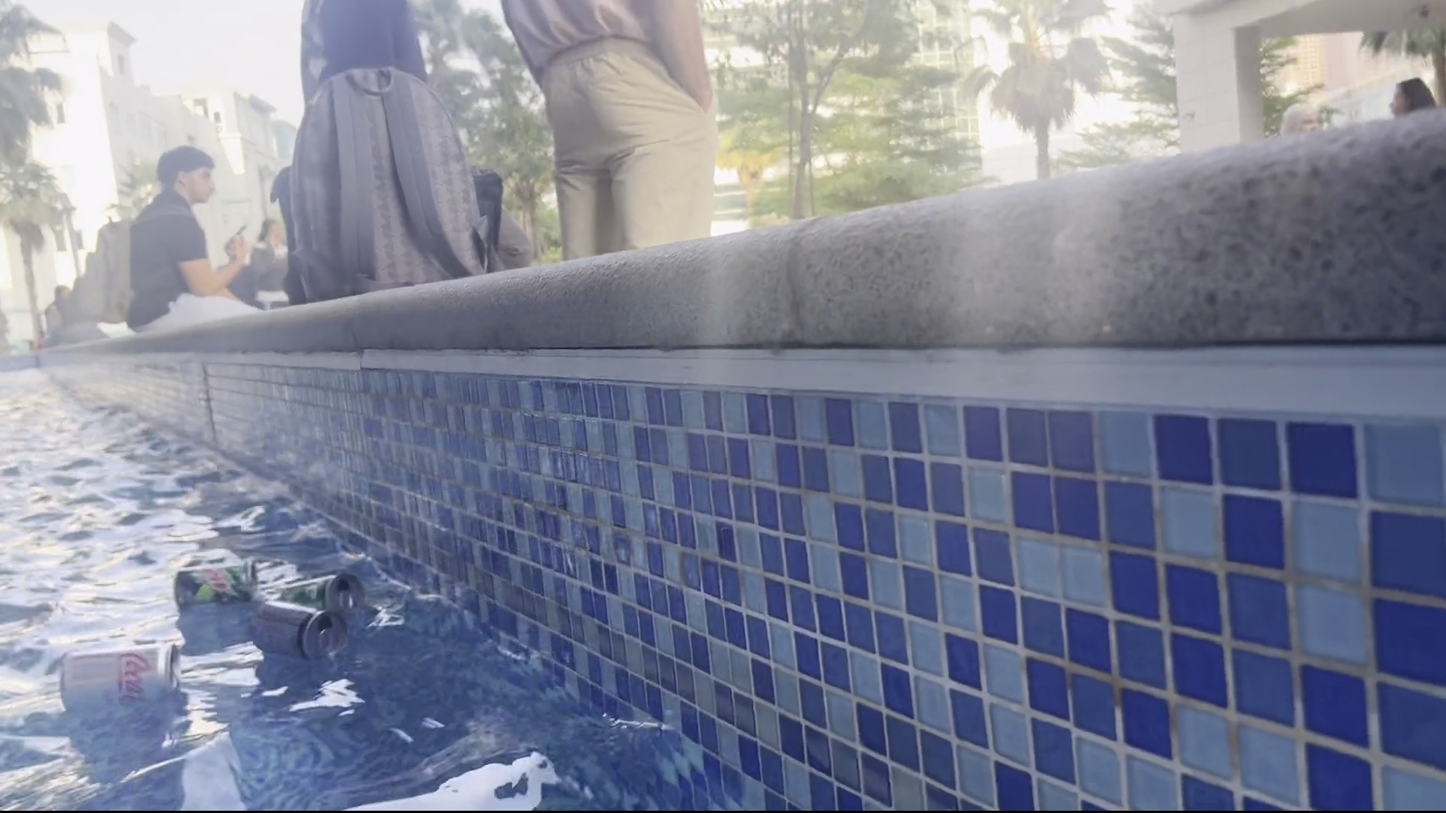debris: (44, 635, 191, 717), (248, 598, 351, 668), (270, 568, 365, 622), (170, 556, 263, 610)
